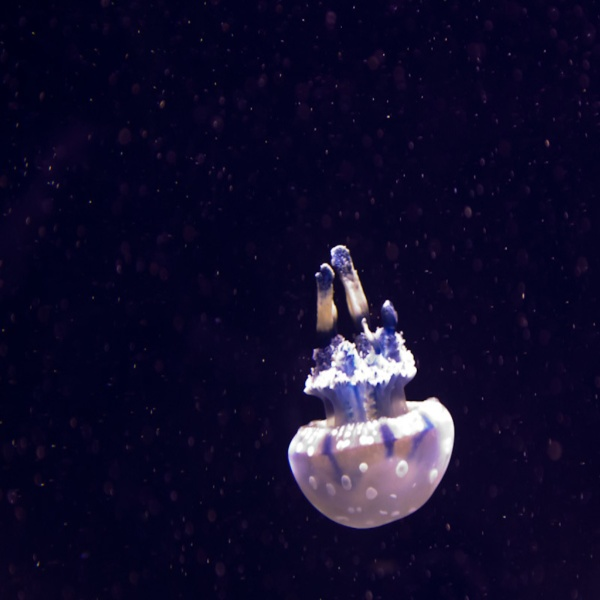Jellyfish: (286, 240, 455, 530)
